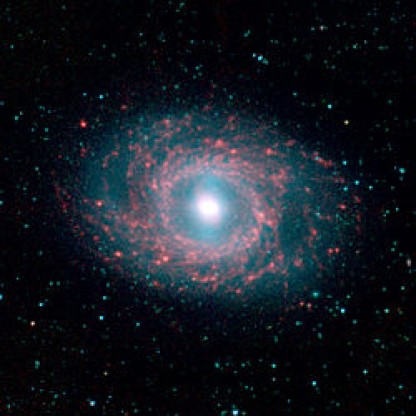Messier 95: (45, 92, 379, 324)
